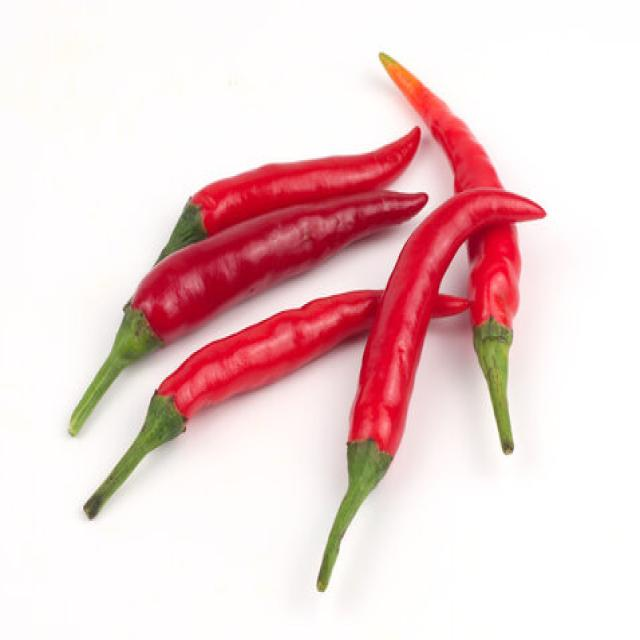Chilli: (315, 183, 546, 592), (67, 185, 428, 437), (80, 285, 391, 519), (377, 50, 541, 453), (148, 123, 420, 270)
